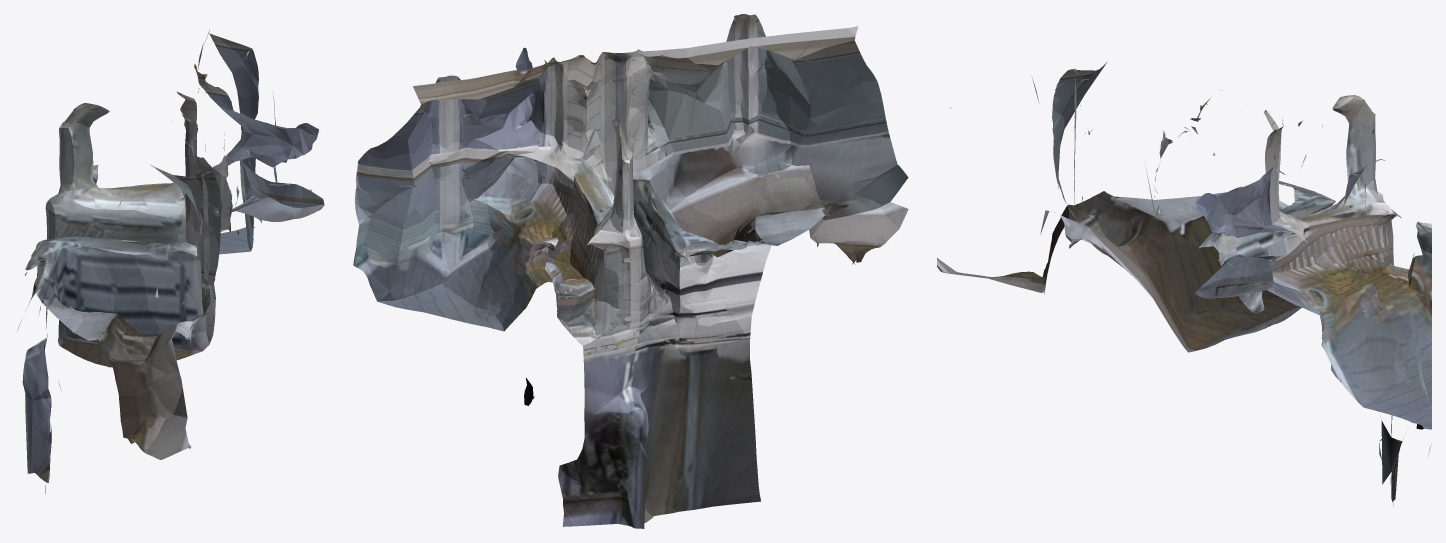
The picture shows the model from 3 angles, left to right: view 1: azimuth 30°, elevation 25°; view 2: azimuth 150°, elevation 25°; view 3: azimuth 270°, elevation 25°; orthographic projection. The views are drawn at different scales.
Size of the model in its own units: 3.6 by 4.18 by 4.18.
Materials: 4 (4 with a texture image).
